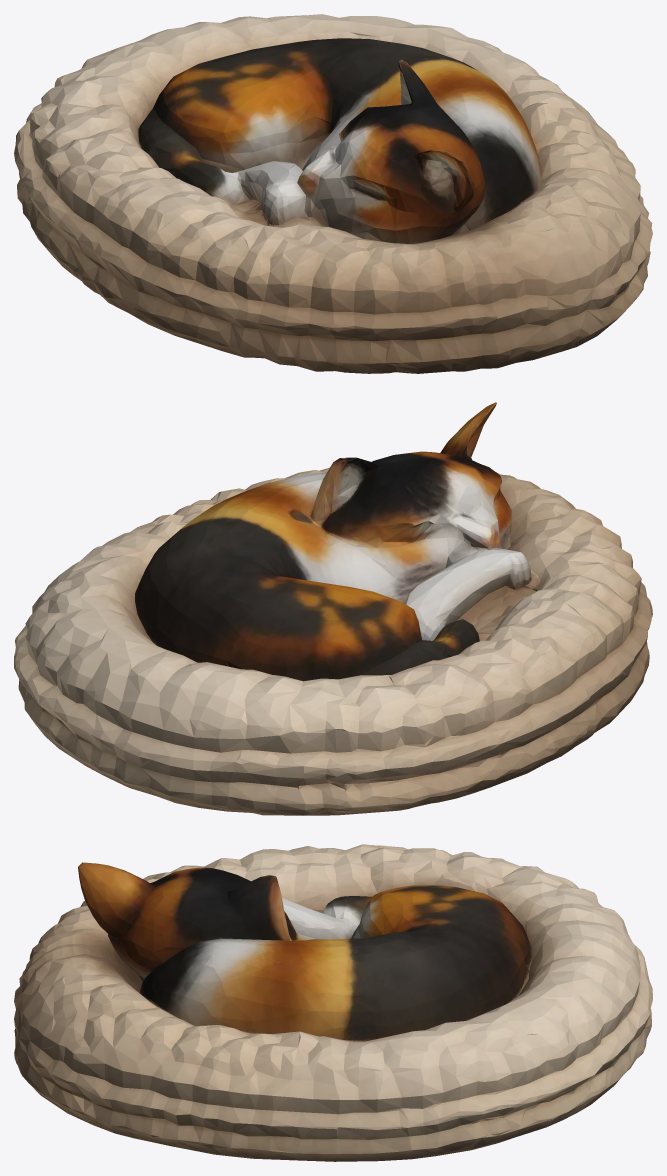
3 views of the same model, one above another, from view 1: azimuth 30°, elevation 25°; view 2: azimuth 150°, elevation 25°; view 3: azimuth 270°, elevation 25° (orthographic). The views are drawn at different scales.
Parts seen in each view (by area): view 1: world; view 2: world; view 3: world.
Boxes of the visible parts, x1,y1,x2,y2 form: world: (14, 14, 652, 373); world: (14, 402, 652, 815); world: (14, 844, 652, 1161).
Bounding box in the file's own units: 0.8624 × 0.3563 × 0.9994.
1 material, 1 textured.
